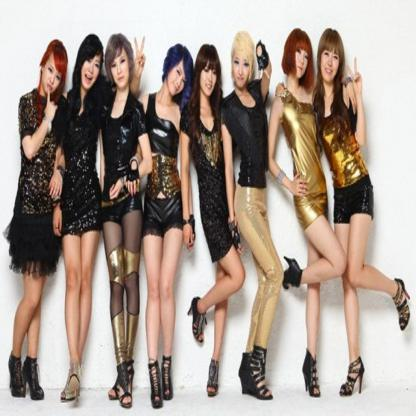face: (43, 54, 63, 94), (112, 48, 130, 89), (82, 54, 101, 89), (168, 61, 187, 96), (322, 48, 340, 82), (201, 62, 218, 97), (233, 53, 250, 88), (295, 48, 309, 79)
